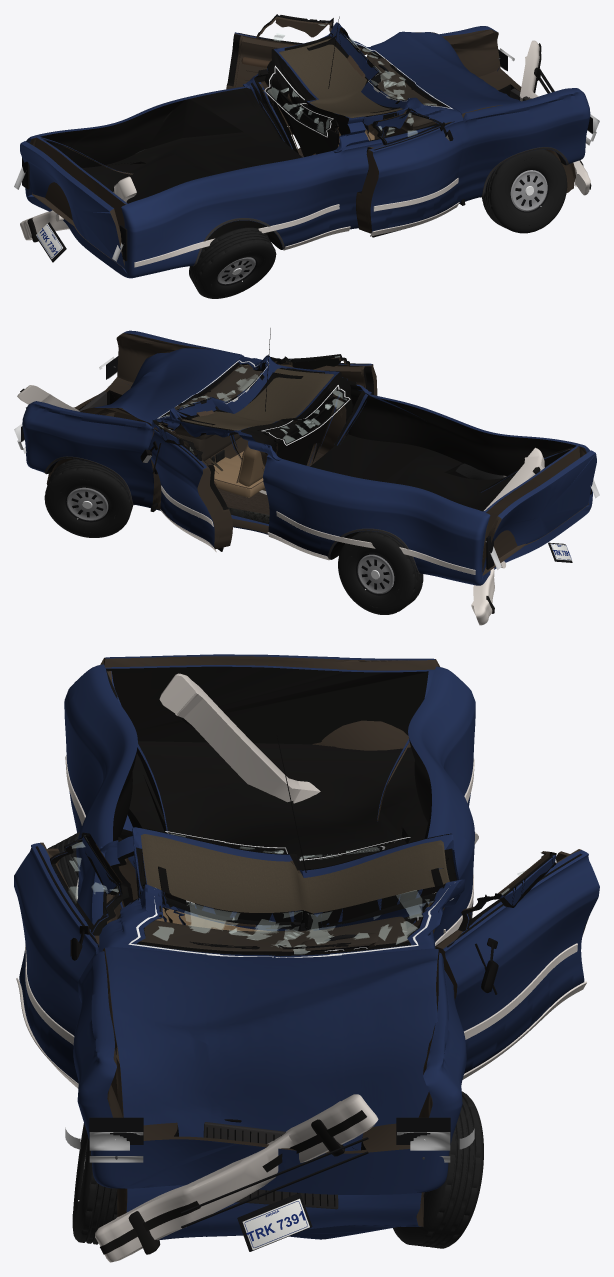
Rendered from pickup87_roll_d2.glb.
3 renders of one model, top to bottom at view 1: azimuth 30°, elevation 25°; view 2: azimuth 150°, elevation 25°; view 3: azimuth 270°, elevation 25°, orthographic. The views are drawn at different scales.
Visible parts, largest first — view 1: Body, Door_FR, Hood, Wheel_FR_mesh, Wheel_RR_mesh, Tailgate, Door_FL, Trim, Glass, Interior, Ends, Trim_FR (+3 smaller); view 2: Body, Door_FL, Hood, Wheel_FL_mesh, Wheel_RL_mesh, Tailgate, Interior, Trim, Glass, Bumper_R, Door_FR, Ends (+4 smaller); view 3: Body, Hood, Door_FL, Door_FR, Bumper_F, Ends, Interior, Glass, Tailgate, Bumper_R, Wheel_FL_mesh, Trim_FL (+5 smaller).
Part boxes in pixels (bbox=[...]): Body: bbox=[25, 22, 590, 278]; Door_FR: bbox=[356, 109, 463, 233]; Hood: bbox=[371, 31, 575, 192]; Wheel_FR_mesh: bbox=[482, 149, 567, 233]; Wheel_RR_mesh: bbox=[189, 227, 276, 298]; Tailgate: bbox=[20, 141, 124, 268]; Door_FL: bbox=[226, 14, 332, 126]; Trim: bbox=[134, 16, 568, 267]; Glass: bbox=[264, 31, 452, 137]; Interior: bbox=[315, 55, 439, 153]; Ends: bbox=[14, 48, 599, 262]; Trim_FR: bbox=[370, 111, 459, 237]; Body: bbox=[22, 330, 592, 585]; Door_FL: bbox=[148, 420, 232, 549]; Hood: bbox=[46, 348, 243, 489]; Wheel_FL_mesh: bbox=[44, 459, 133, 537]; Wheel_RL_mesh: bbox=[338, 531, 423, 614]; Tailgate: bbox=[482, 450, 596, 574]; Interior: bbox=[172, 365, 264, 497]; Trim: bbox=[44, 328, 506, 574]; Glass: bbox=[157, 360, 350, 445]; Bumper_R: bbox=[471, 447, 544, 625]; Door_FR: bbox=[247, 355, 377, 395]; Ends: bbox=[14, 356, 599, 569]; Body: bbox=[64, 664, 475, 1194]; Hood: bbox=[102, 947, 438, 1240]; Door_FL: bbox=[435, 849, 599, 1073]; Door_FR: bbox=[14, 832, 129, 1083]; Bumper_F: bbox=[95, 1094, 378, 1262]; Ends: bbox=[65, 1117, 474, 1251]; Interior: bbox=[140, 907, 408, 951]; Glass: bbox=[128, 831, 455, 957]; Tailgate: bbox=[100, 654, 439, 750]; Bumper_R: bbox=[159, 673, 478, 844]; Wheel_FL_mesh: bbox=[393, 1091, 483, 1248]; Trim_FL: bbox=[443, 853, 586, 1079].
Size of the model in its own units: 5.38 by 2.06 by 2.84.
30 materials, 5 textured.
